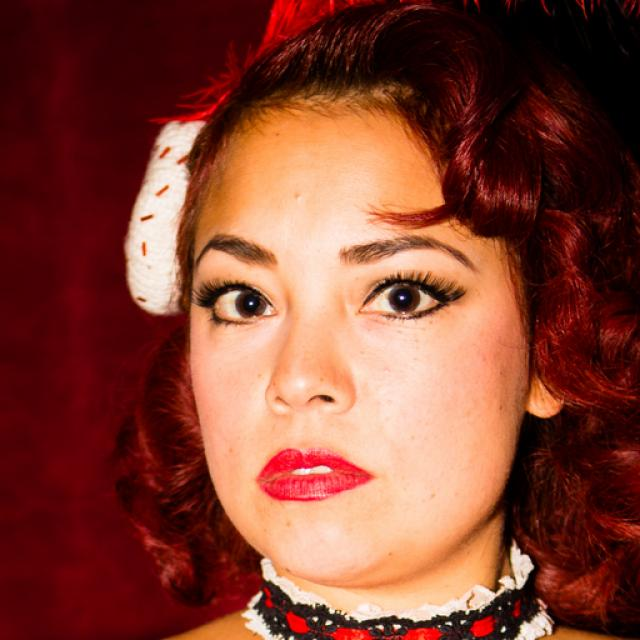Wrinkle: (288, 190, 309, 207)
